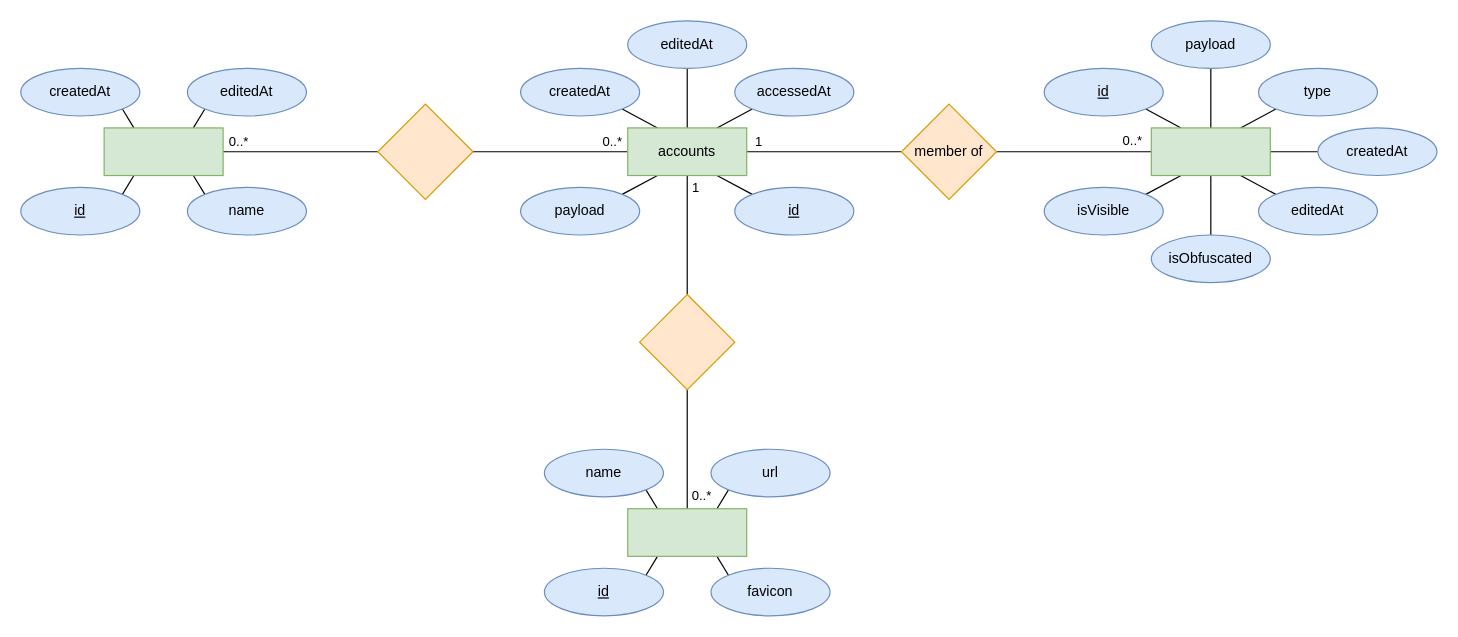
The diagram is 1458 pixels wide and 637 high, and some of its shapes have lost their labels. Here are the shapes that lost their labels. From the top down, the box of each, then its label:
(103, 127, 223, 176): tags
(377, 103, 473, 199): assigned to
(1150, 127, 1270, 176): details
(638, 293, 735, 390): for
(627, 508, 747, 556): targets
